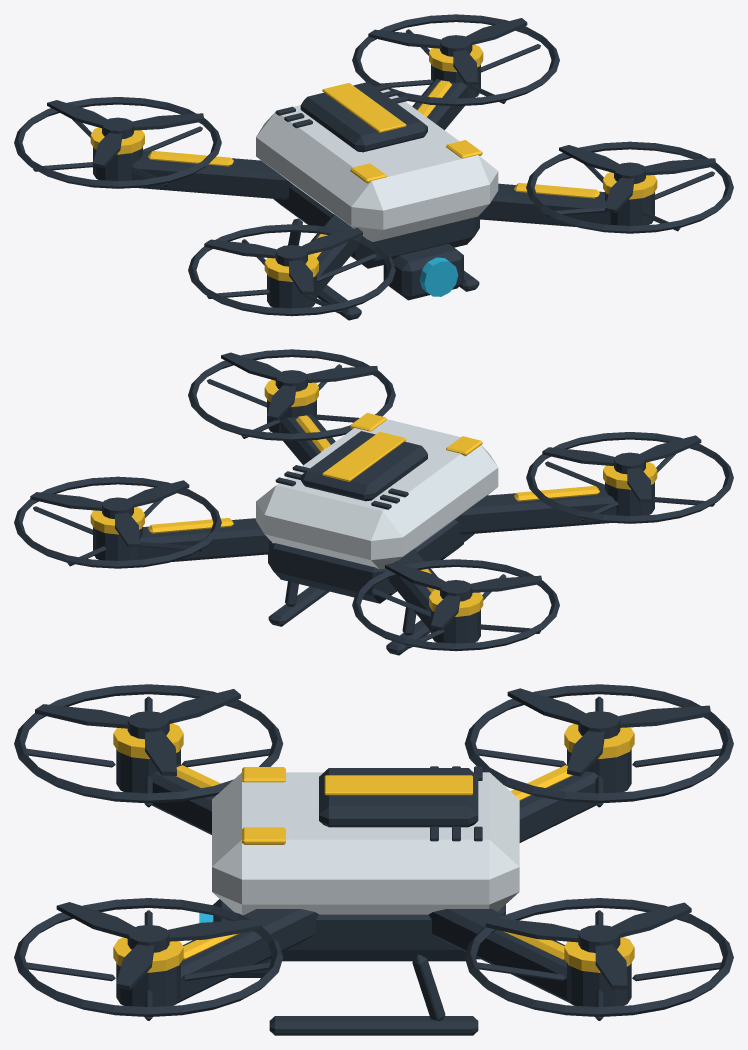
The model's file is ArcadeSupportDrone.fbx.
3 views of the same model, one above another, from view 1: azimuth 30°, elevation 25°; view 2: azimuth 150°, elevation 25°; view 3: azimuth 270°, elevation 25° (orthographic). The views are drawn at different scales.
Parts seen in each view (by area): view 1: DroneBody, Propeller_RL, Propeller_FR, Propeller_RR, Propeller_FL; view 2: DroneBody, Propeller_RL, Propeller_RR, Propeller_FR, Propeller_FL; view 3: DroneBody, Propeller_RR, Propeller_FR, Propeller_RL, Propeller_FL.
Boxes of the visible parts, left/top/right/bottom form: DroneBody: left=14, top=14, right=733, bottom=320; Propeller_RL: left=47, top=100, right=203, bottom=168; Propeller_FR: left=559, top=145, right=715, bottom=212; Propeller_RR: left=368, top=18, right=527, bottom=84; Propeller_FL: left=204, top=227, right=362, bottom=294; DroneBody: left=14, top=349, right=733, bottom=655; Propeller_RL: left=385, top=562, right=542, bottom=630; Propeller_RR: left=30, top=480, right=189, bottom=547; Propeller_FR: left=221, top=352, right=377, bottom=420; Propeller_FL: left=542, top=435, right=701, bottom=502; DroneBody: left=14, top=684, right=733, bottom=1035; Propeller_RR: left=485, top=902, right=691, bottom=989; Propeller_FR: left=56, top=902, right=260, bottom=990; Propeller_RL: left=507, top=688, right=710, bottom=776; Propeller_FL: left=35, top=689, right=240, bottom=775.
Bounding box in the file's own units: 141 × 42.55 × 131.
